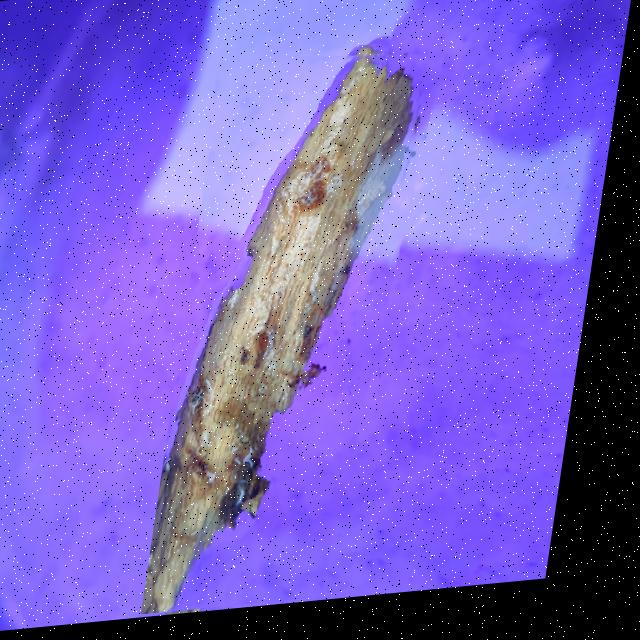wood: (161, 45, 450, 618)
